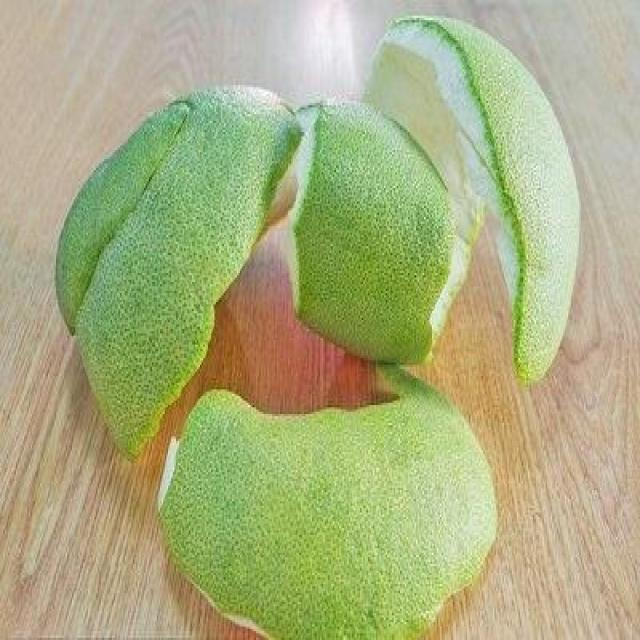organic: (56, 16, 578, 640)
